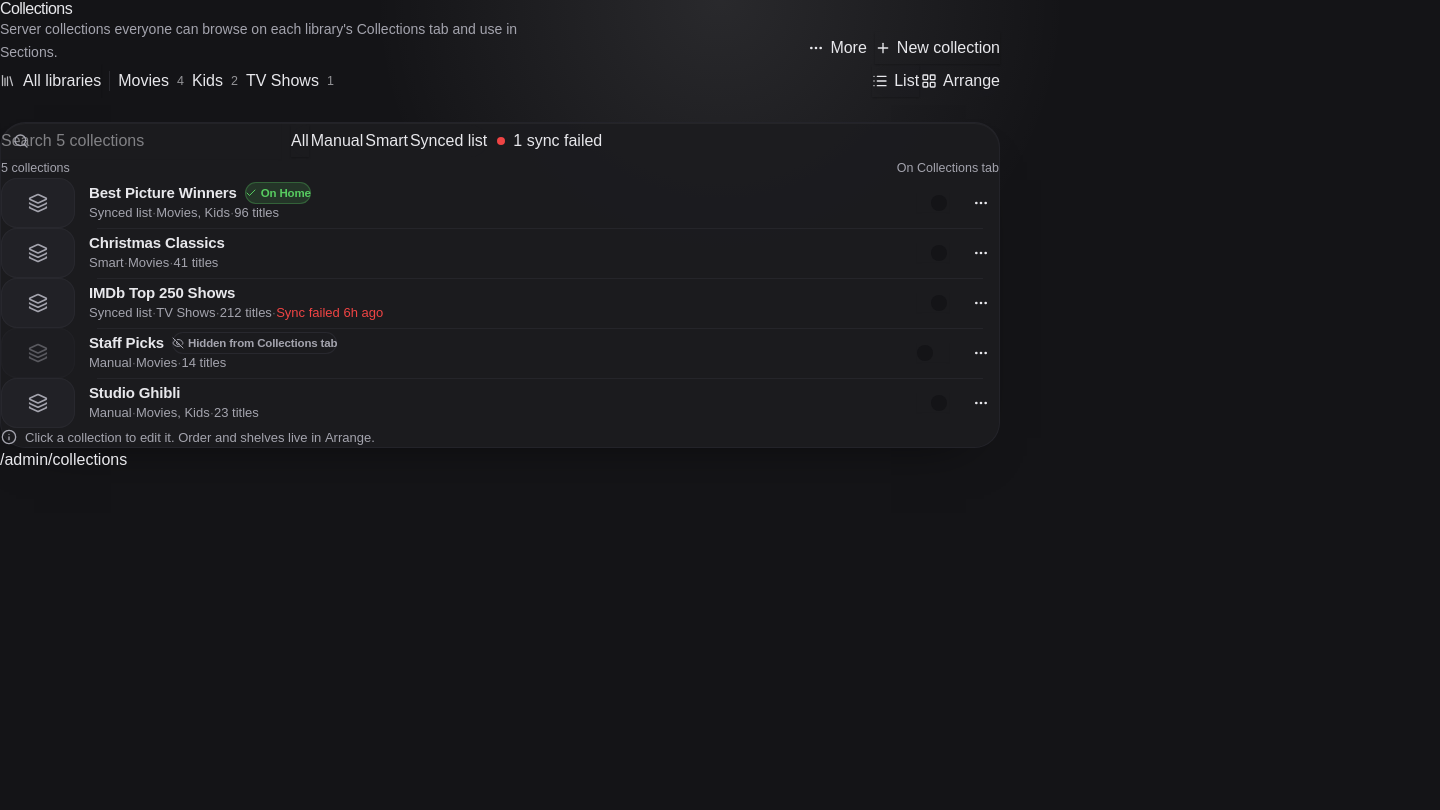
Test case: AdminCollections List: rows that show a collection › shows the rows when the server refuses a delete the list thought was free
This screenshot has width=1440, height=810.
Expected: the text "Studio Ghibli" is shown, [89,382,180,404]
Click the button named "More for Studio Ghibli".
click(981, 403)  # box [963,385,999,421]
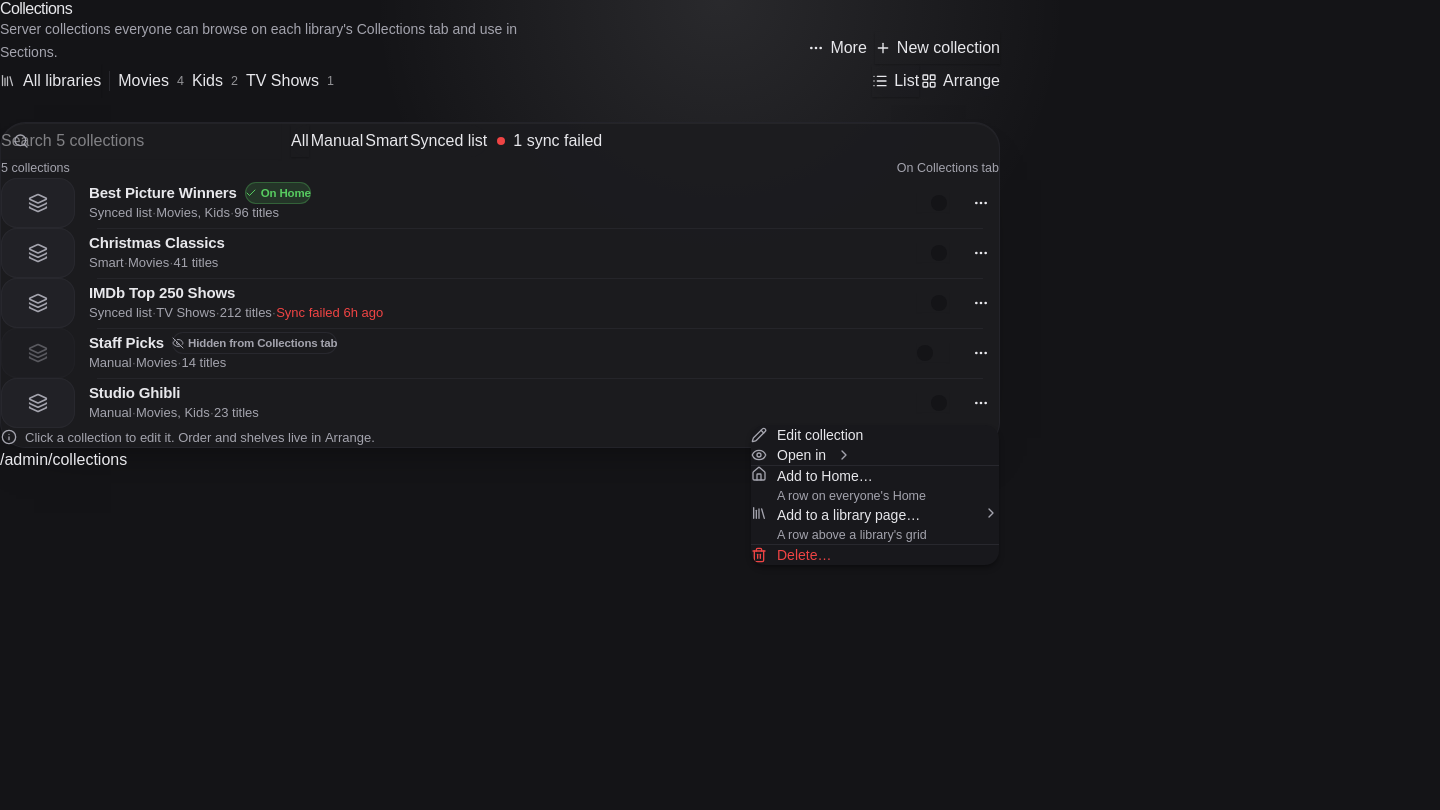
Click the menu item "Delete…".
click(791, 555)  # box [751,547,832,563]
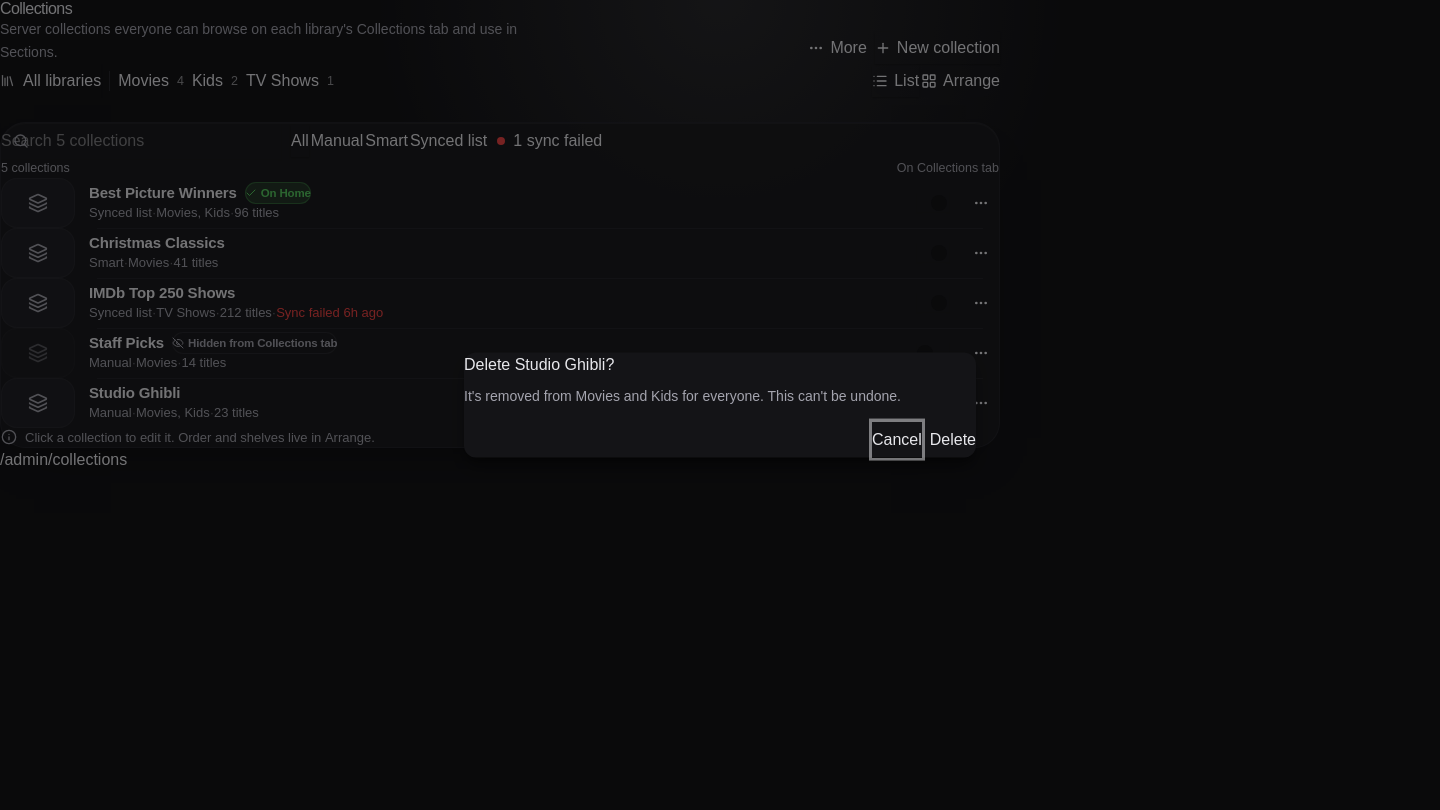
Click the button "Delete".
click(953, 439)  # box [930,421,976,457]
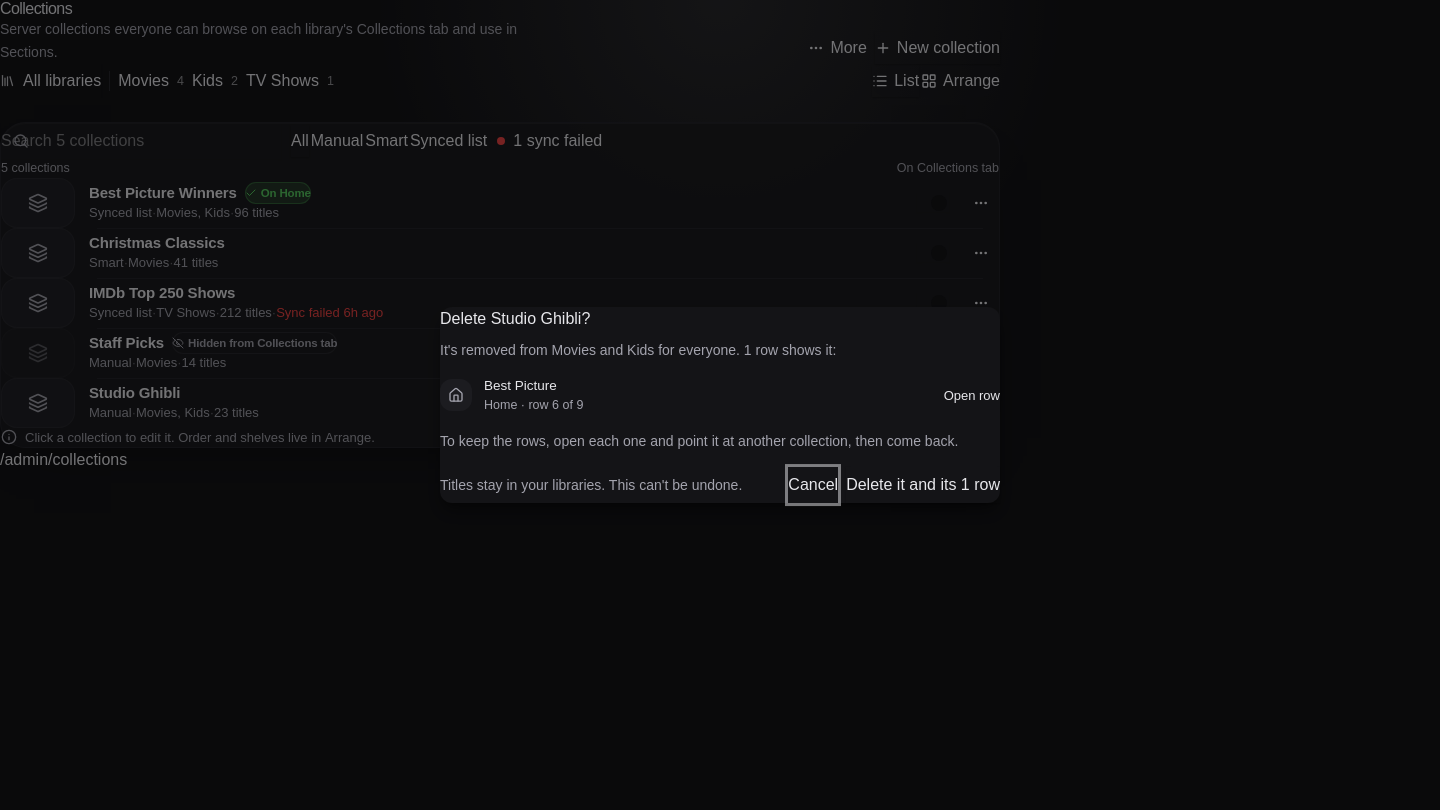
Now the button "Delete it and its 1 row" is enabled, box [846,467,1000,503]
Now the link with aria-label "Open row: Best Picture" is shown, box [944,386,1000,405]
